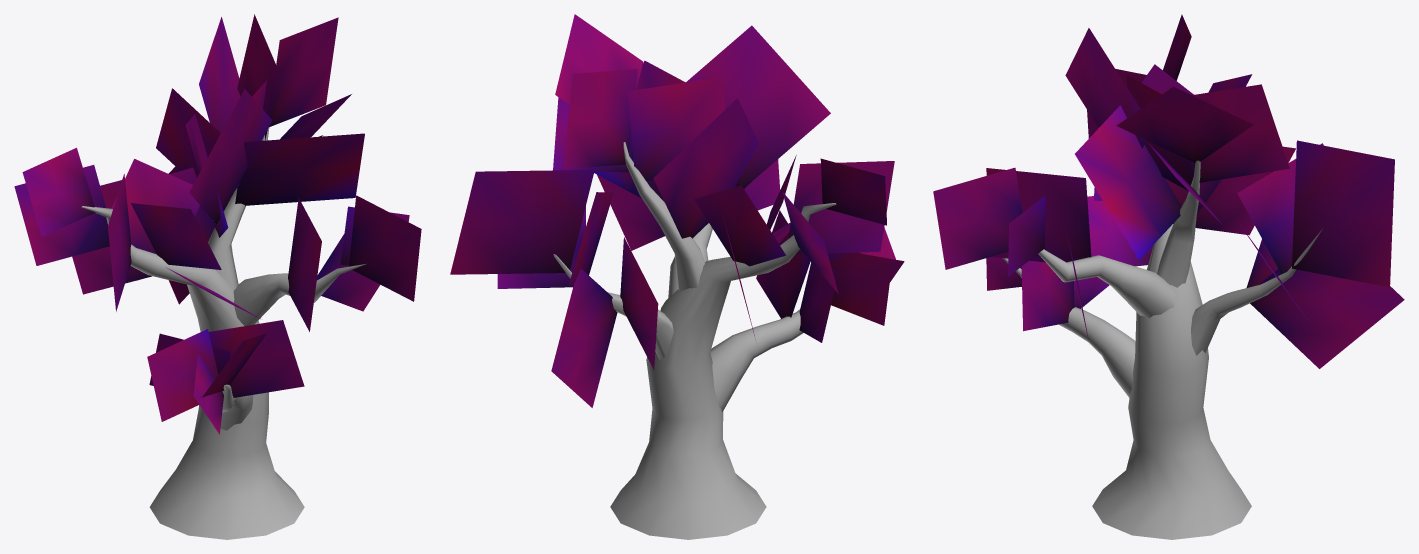
The model's file is env_autumn_tree_maple.fbx.
3 views of the same model, side by side, from view 1: azimuth 30°, elevation 25°; view 2: azimuth 150°, elevation 25°; view 3: azimuth 270°, elevation 25° (orthographic). The views are drawn at different scales.
Parts seen in each view (by area): view 1: env_autumn_tree_maple_leaves_geo, env_autumn_tree_maple_geo; view 2: env_autumn_tree_maple_leaves_geo, env_autumn_tree_maple_geo; view 3: env_autumn_tree_maple_leaves_geo, env_autumn_tree_maple_geo.
Part boxes in pixels (bbox=[...]): env_autumn_tree_maple_leaves_geo: bbox=[14, 14, 421, 434]; env_autumn_tree_maple_geo: bbox=[81, 127, 366, 539]; env_autumn_tree_maple_leaves_geo: bbox=[450, 14, 904, 407]; env_autumn_tree_maple_geo: bbox=[553, 142, 836, 539]; env_autumn_tree_maple_leaves_geo: bbox=[933, 14, 1404, 368]; env_autumn_tree_maple_geo: bbox=[1002, 160, 1322, 539].
Bounding box in the file's own units: 677 × 873 × 784.
